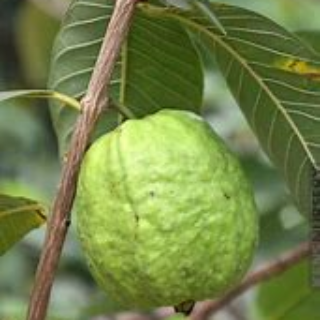oi: (71, 105, 261, 315)
